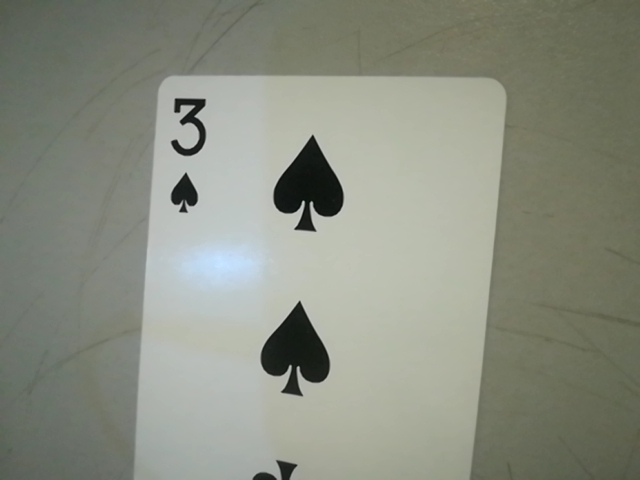ht 3: (155, 89, 223, 220)
